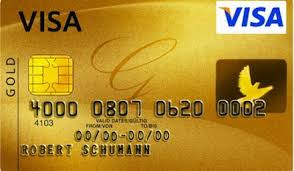tarjeta: (1, 1, 294, 171)
